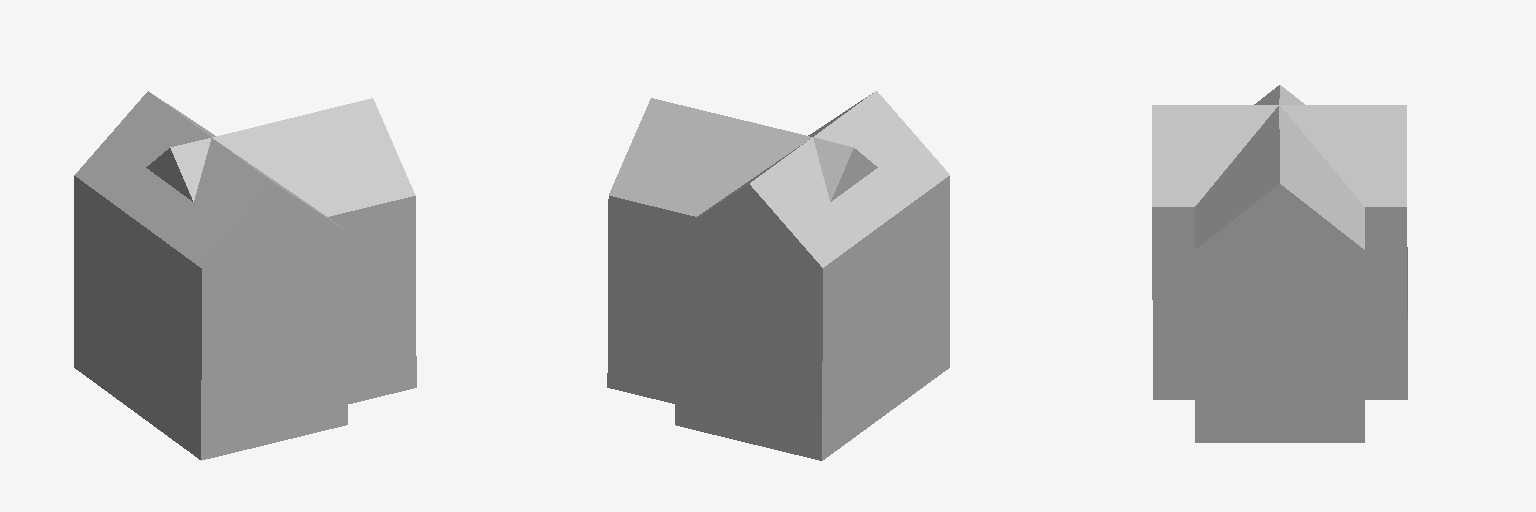
Rendered from house2.obj.
3 renders of one model, left to right at view 1: azimuth 30°, elevation 25°; view 2: azimuth 150°, elevation 25°; view 3: azimuth 270°, elevation 25°, orthographic.
Parts seen in each view (by area): view 1: Cube; view 2: Cube; view 3: Cube.
Part boxes in pixels (left/top/right/bottom): Cube: left=74, top=91, right=416, bottom=460; Cube: left=607, top=91, right=949, bottom=460; Cube: left=1152, top=85, right=1407, bottom=442.
Bounding box in the file's own units: 25.7 × 26.91 × 24.12.